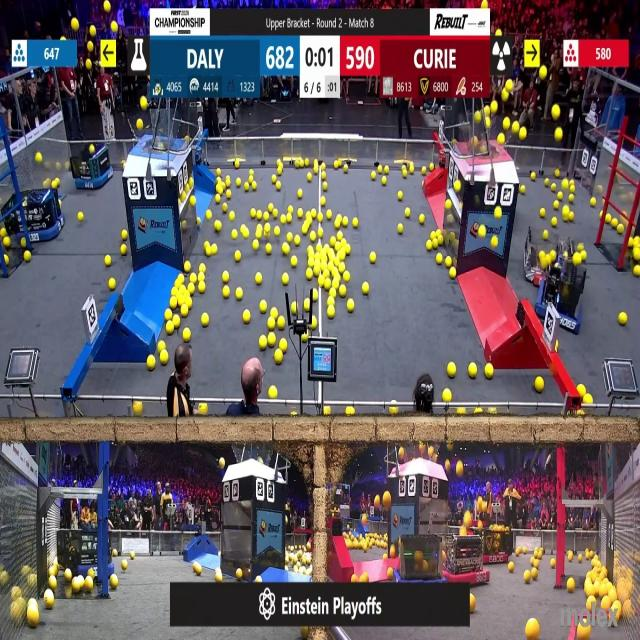ball_airborne: (553, 104, 561, 120), (383, 492, 391, 508), (556, 129, 564, 144), (456, 461, 464, 476), (463, 514, 471, 528), (140, 97, 148, 111), (539, 66, 547, 80), (454, 463, 461, 478), (494, 207, 502, 220), (71, 20, 79, 32), (454, 180, 462, 192), (513, 120, 520, 133), (502, 117, 509, 129), (520, 129, 527, 141), (104, 1, 111, 12), (111, 22, 117, 34), (506, 79, 512, 91), (492, 102, 498, 114), (88, 41, 95, 51), (460, 526, 467, 536), (138, 118, 144, 129), (91, 26, 97, 37), (375, 495, 381, 506), (398, 448, 403, 461), (445, 460, 450, 473), (498, 134, 504, 144), (36, 152, 42, 162), (501, 92, 507, 102), (486, 117, 492, 127), (481, 501, 487, 511), (87, 60, 93, 70), (475, 111, 480, 122), (472, 138, 478, 147), (485, 106, 491, 115), (428, 448, 433, 458), (481, 0, 488, 7), (478, 522, 485, 528), (496, 28, 502, 35), (90, 144, 94, 153)
ball_ground: (44, 591, 54, 609), (534, 377, 544, 393), (134, 402, 143, 417), (444, 388, 453, 402), (109, 574, 118, 588), (148, 355, 156, 370), (486, 363, 494, 378), (468, 362, 476, 377), (567, 580, 575, 594), (200, 404, 208, 418), (448, 362, 456, 376), (276, 350, 284, 364), (202, 313, 210, 327), (86, 579, 94, 593), (269, 386, 278, 398), (48, 576, 56, 589), (269, 335, 277, 348), (192, 562, 200, 575), (359, 572, 368, 583), (621, 312, 628, 326), (161, 352, 169, 364), (182, 328, 190, 340), (282, 273, 289, 286), (215, 570, 222, 583), (244, 311, 251, 324), (348, 300, 355, 313), (280, 339, 287, 352), (221, 272, 228, 284), (450, 268, 457, 280), (173, 316, 180, 328), (259, 302, 266, 314), (269, 318, 276, 330), (259, 338, 266, 350), (237, 288, 244, 300), (577, 384, 584, 396), (167, 322, 174, 334), (336, 215, 343, 227), (24, 251, 32, 261), (390, 408, 398, 418), (180, 307, 188, 317), (266, 244, 273, 255), (199, 282, 206, 293), (108, 279, 115, 290), (188, 283, 195, 294), (237, 568, 244, 579), (222, 286, 228, 298), (278, 317, 284, 329), (312, 316, 318, 328), (236, 250, 242, 262), (305, 300, 311, 312), (362, 282, 368, 294), (255, 273, 261, 285), (183, 263, 190, 273), (327, 308, 334, 318), (342, 217, 349, 227), (243, 230, 250, 240), (446, 256, 453, 266), (214, 220, 220, 231), (283, 244, 289, 255), (120, 231, 126, 242), (341, 285, 347, 296), (312, 289, 318, 300), (435, 254, 442, 263), (160, 342, 167, 351), (323, 408, 330, 417), (166, 310, 173, 319), (255, 231, 262, 240), (252, 241, 259, 250), (105, 255, 111, 265), (120, 244, 125, 256), (368, 252, 374, 262), (307, 270, 313, 280), (120, 560, 126, 570), (291, 256, 297, 266), (189, 197, 195, 207), (432, 239, 438, 249), (171, 297, 177, 307), (328, 288, 335, 296), (427, 240, 432, 251), (233, 231, 239, 240), (344, 273, 350, 282), (520, 184, 526, 193), (280, 214, 286, 223), (200, 265, 206, 274), (77, 212, 83, 221), (551, 559, 557, 568), (293, 237, 299, 246), (382, 176, 388, 185), (189, 274, 195, 283), (286, 234, 292, 243), (542, 231, 547, 241), (296, 188, 301, 198), (353, 218, 358, 228), (291, 304, 296, 314), (264, 223, 271, 230), (352, 574, 358, 582), (311, 210, 317, 218), (231, 212, 237, 220), (184, 306, 190, 314), (244, 182, 250, 190), (276, 182, 282, 190), (576, 244, 582, 252), (329, 238, 335, 246), (297, 209, 302, 218), (338, 232, 343, 241), (225, 189, 230, 198), (553, 217, 558, 226), (420, 214, 425, 223), (251, 209, 256, 218), (347, 408, 352, 417), (237, 178, 242, 187), (205, 242, 210, 251), (286, 215, 292, 222), (303, 336, 309, 343), (320, 198, 325, 206), (322, 182, 327, 190), (256, 575, 261, 583), (540, 208, 544, 218), (287, 206, 292, 214), (273, 210, 278, 218), (554, 202, 559, 210), (568, 553, 572, 562), (569, 212, 573, 221), (384, 167, 389, 174), (215, 195, 220, 202), (309, 246, 314, 253), (314, 167, 319, 174), (308, 173, 312, 181), (408, 209, 412, 217), (410, 166, 414, 174), (402, 170, 406, 178), (276, 226, 280, 234), (252, 182, 256, 190), (532, 172, 536, 180), (344, 166, 348, 173), (113, 550, 117, 557), (132, 553, 136, 560), (531, 558, 535, 565), (291, 413, 296, 418), (578, 556, 582, 562), (214, 245, 217, 251), (230, 215, 233, 219), (438, 230, 440, 234)
goal: (133, 117, 188, 151), (460, 122, 510, 158)
robot_blue: (536, 259, 588, 334), (55, 524, 116, 579), (396, 536, 442, 596), (21, 188, 62, 244), (73, 144, 114, 192)
robot_red: (522, 223, 584, 294), (442, 522, 491, 584), (480, 522, 513, 564)
